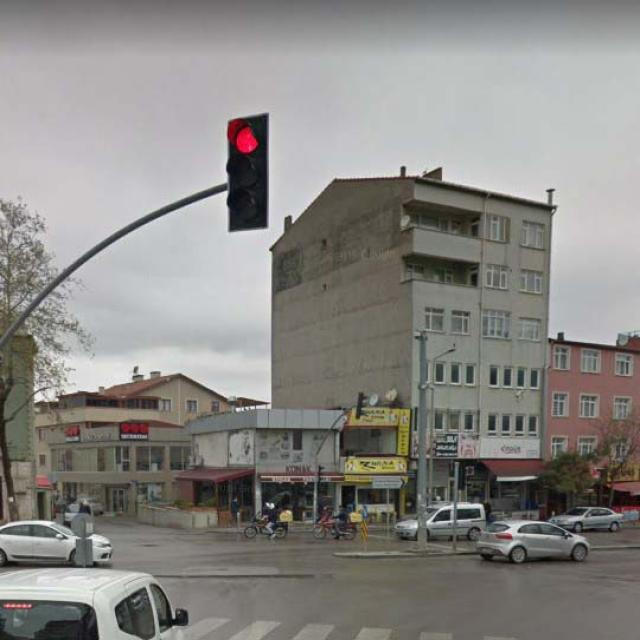kirmizi: (225, 118, 266, 224)
